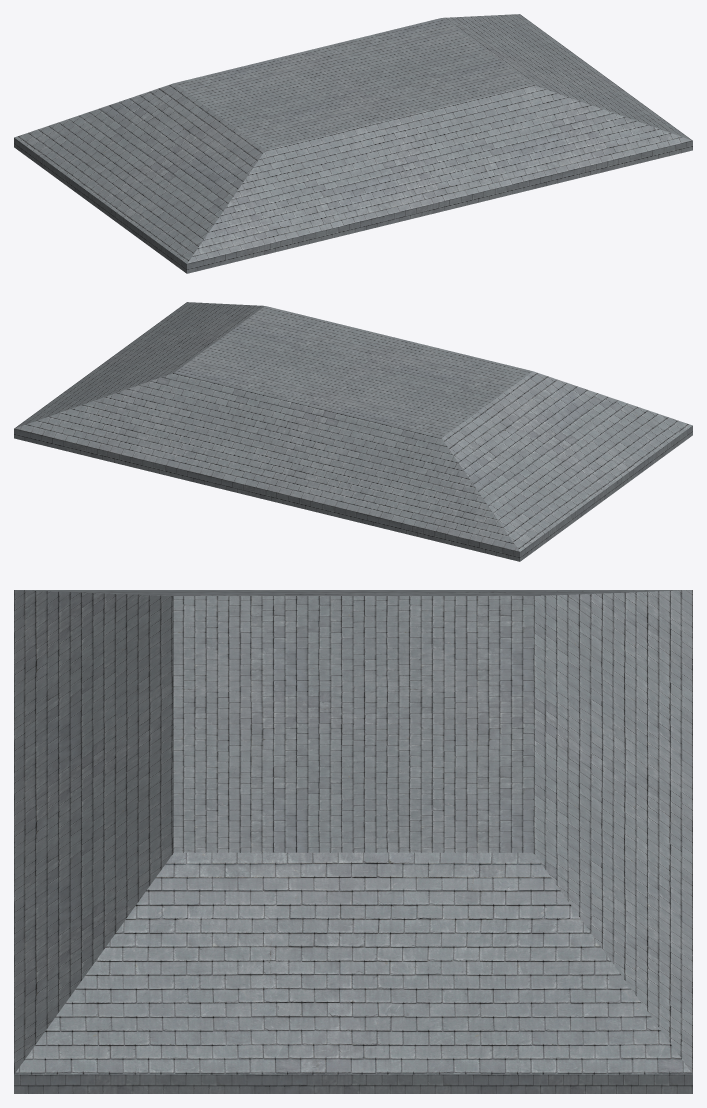
File: Ceiling.FBX
The picture shows the model from 3 angles, top to bottom: view 1: azimuth 30°, elevation 25°; view 2: azimuth 150°, elevation 25°; view 3: azimuth 270°, elevation 25°; orthographic projection. The views are drawn at different scales.
Parts seen in each view (by area): view 1: Ceiling; view 2: Ceiling; view 3: Ceiling.
Part boxes in pixels (<box>): Ceiling: <box>14,14,692,273</box>; Ceiling: <box>14,302,692,561</box>; Ceiling: <box>14,590,692,1093</box>.
Size of the model in its own units: 1780 by 218 by 1054.
2 materials, 1 textured.
